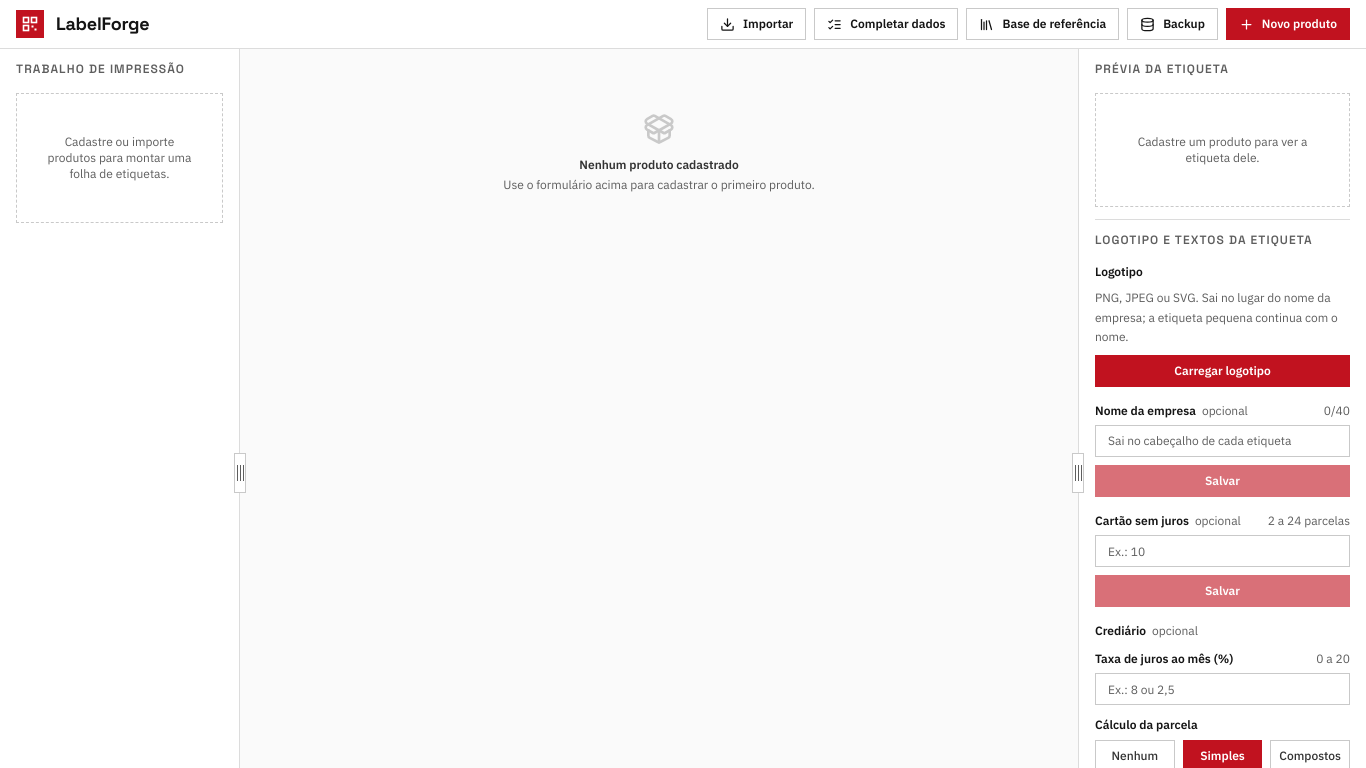
Test: um dialogo por vez › fecha o dialogo aberto sem abrir outro
Click the button "Importar".
click(757, 24)  # box x1=707 y1=8 x2=806 y2=40
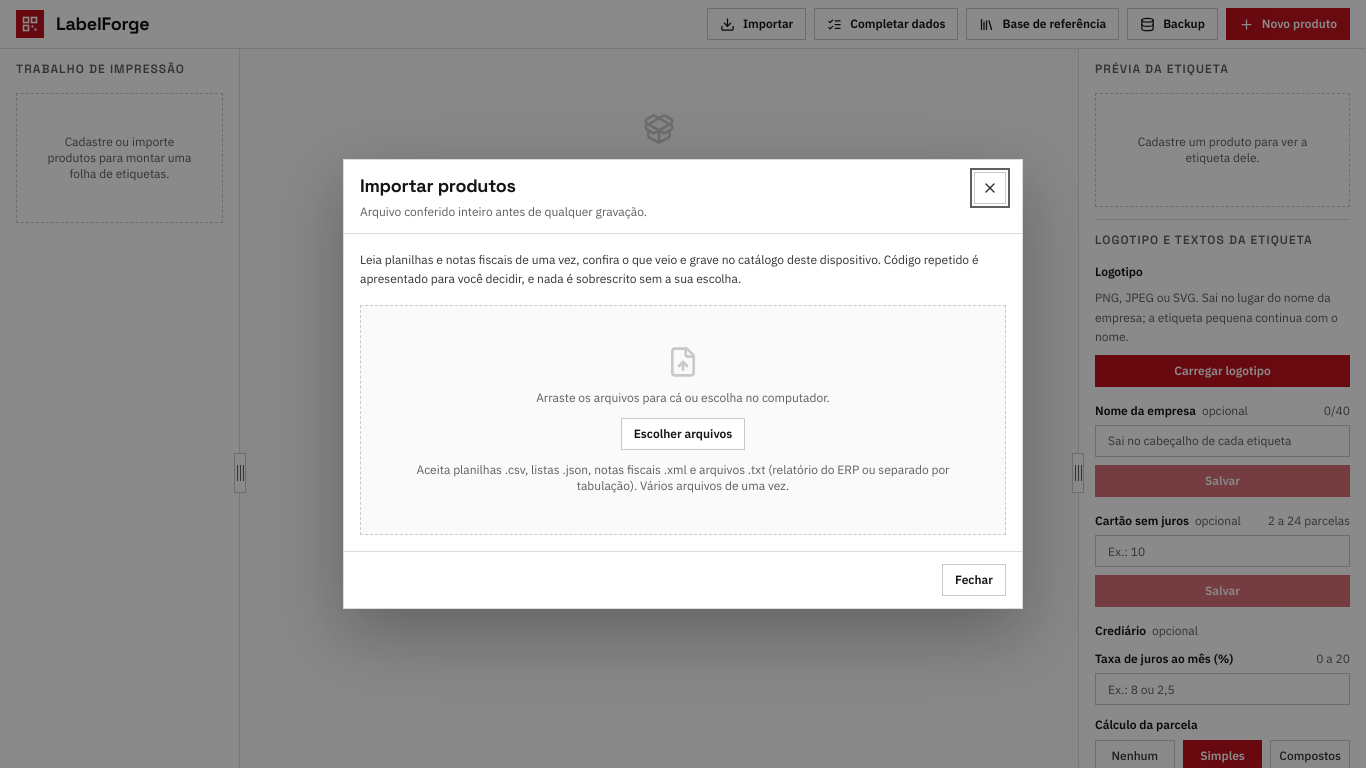
Expected: the button named "Fechar" is shown
Click the button named "Fechar".
click(990, 188)  # box x1=974 y1=172 x2=1006 y2=204
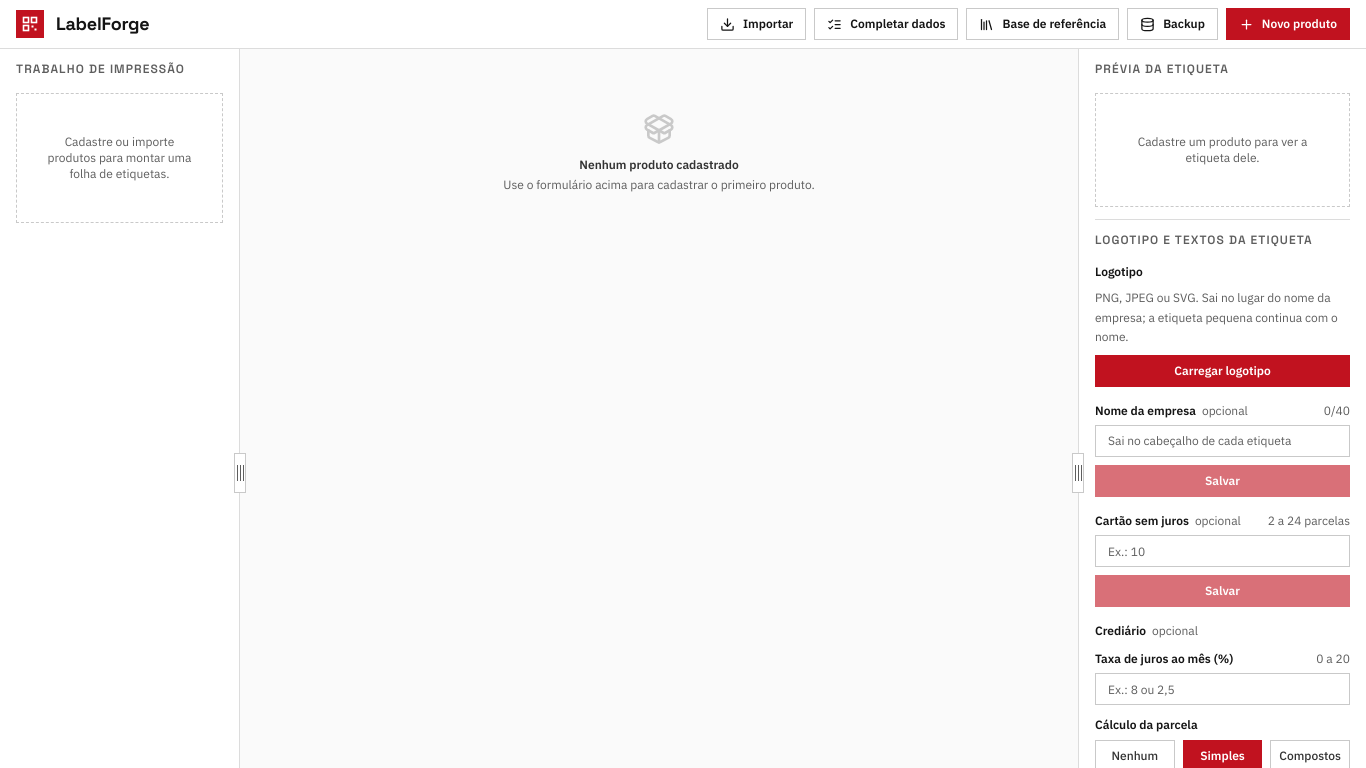
Expected: no dialogs are shown
